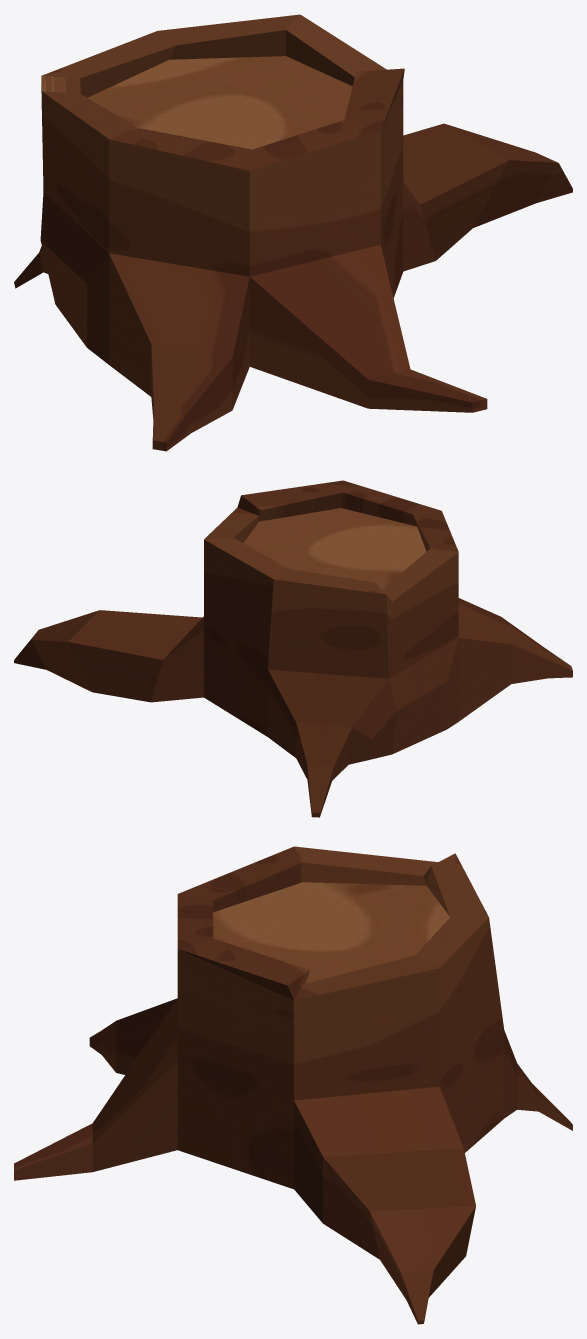
Rendered from boomstronk.glb.
The picture shows the model from 3 angles, top to bottom: view 1: azimuth 30°, elevation 25°; view 2: azimuth 150°, elevation 25°; view 3: azimuth 270°, elevation 25°; orthographic projection. The views are drawn at different scales.
Parts seen in each view (by area): view 1: boomstronk; view 2: boomstronk; view 3: boomstronk.
Part boxes in pixels (x1=…): boomstronk: x1=14, y1=14, x2=572, y2=451; boomstronk: x1=14, y1=480, x2=572, y2=817; boomstronk: x1=14, y1=846, x2=572, y2=1324.
Size of the model in its own units: 3.85 by 1.7 by 3.25.
1 material, 1 textured.
